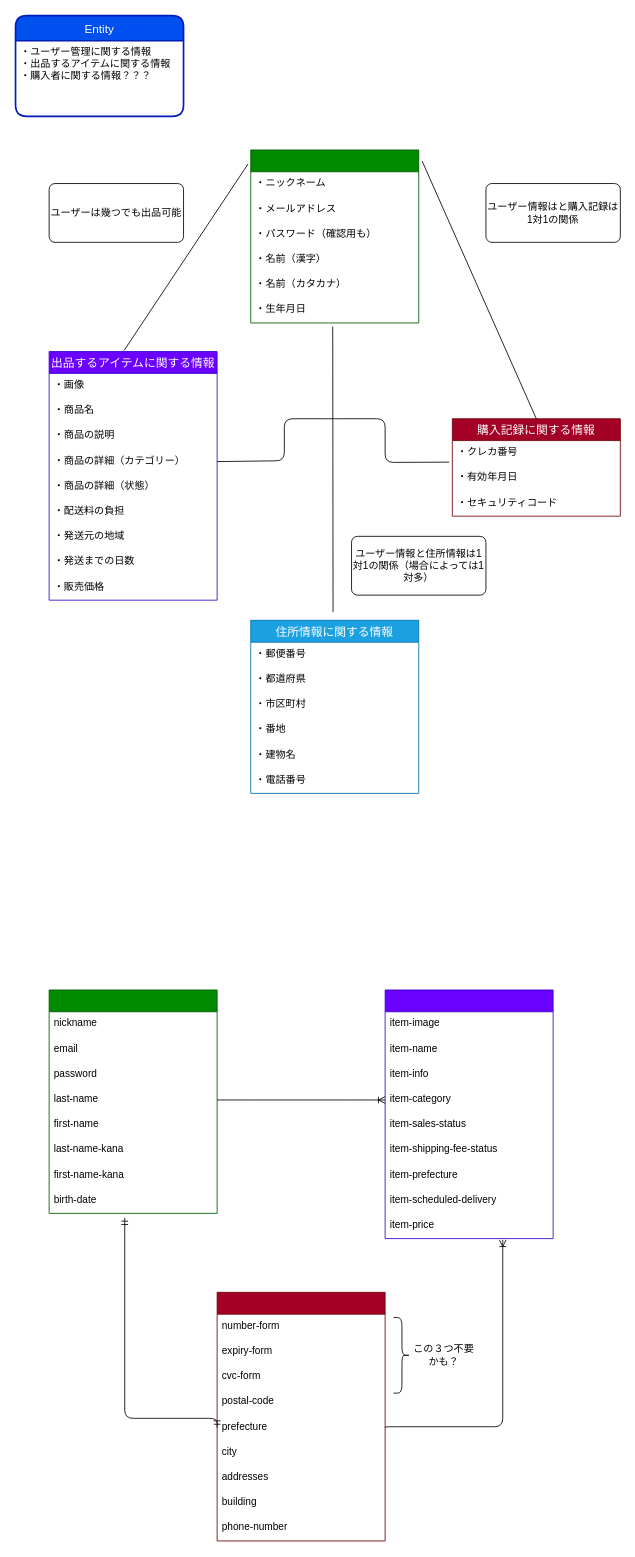
Image size: 635x1557. Some labels were removed from this diagram. The shapes that lost their labels are listed below. From the top down, each one's box as (x1, y1, x2, y2) in pixels, then its label:
(250, 149, 419, 323): ユーザー管理に関する情報
(48, 989, 217, 1213): Users Table
(384, 989, 553, 1239): Items Table
(216, 1292, 385, 1541): Buyers Table
